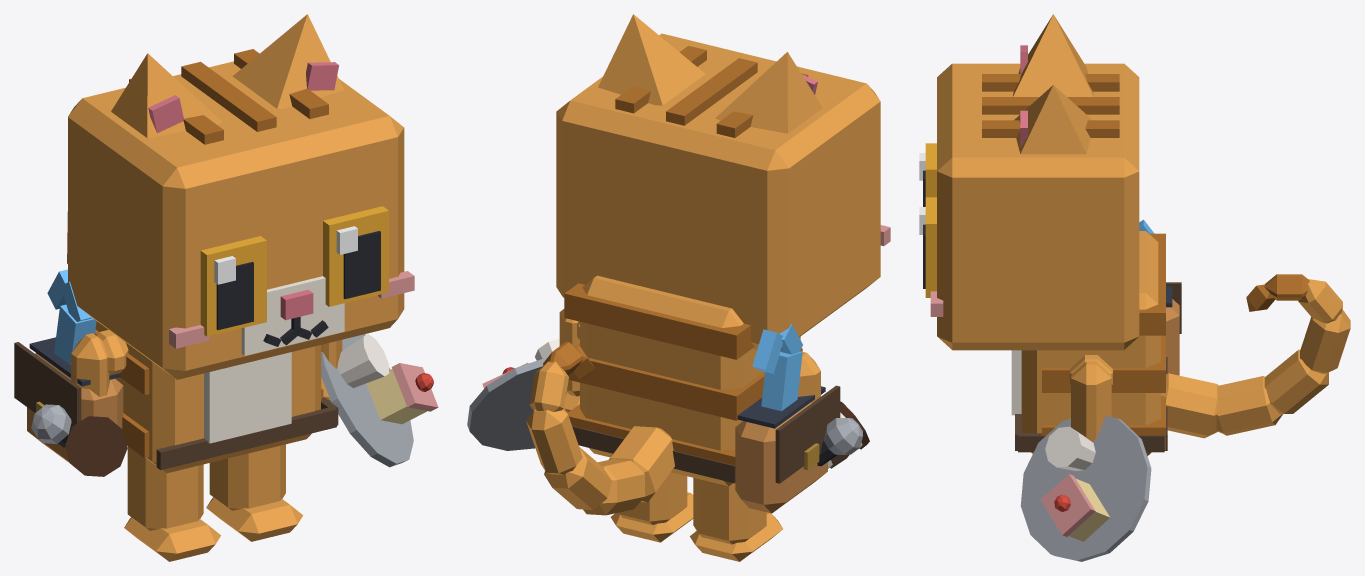
The model's file is CatCafe_Cat_Tabby_Work.glb.
3 views of the same model, side by side, from view 1: azimuth 30°, elevation 25°; view 2: azimuth 150°, elevation 25°; view 3: azimuth 270°, elevation 25° (orthographic). The views are drawn at different scales.
Parts seen in each view (by area): view 1: CatCafe_Cat_Tabby_Work_Head, CatCafe_Cat_Tabby_Work_Body, CatCafe_Cat_Tabby_Work_Held_Waiter, CatCafe_Cat_Tabby_Work_LegB2, CatCafe_Cat_Tabby_Work_LegB1, CatCafe_Cat_Tabby_Work_Eye2, CatCafe_Cat_Tabby_Work_Eye1, CatCafe_Cat_Tabby_Work_EarL, CatCafe_Cat_Tabby_Work_EarR, CatCafe_Cat_Tabby_Work_Held_Barista, CatCafe_Cat_Tabby_Work_LegF2, CatCafe_Cat_Tabby_Work_Held_Entertainer; view 2: CatCafe_Cat_Tabby_Work_Head, CatCafe_Cat_Tabby_Work_Body, CatCafe_Cat_Tabby_Work_Tail, CatCafe_Cat_Tabby_Work_EarL, CatCafe_Cat_Tabby_Work_LegB2, CatCafe_Cat_Tabby_Work_Held_Waiter, CatCafe_Cat_Tabby_Work_EarR, CatCafe_Cat_Tabby_Work_LegB1, CatCafe_Cat_Tabby_Work_Held_Entertainer, CatCafe_Cat_Tabby_Work_LegF1, CatCafe_Cat_Tabby_Work_LegF2; view 3: CatCafe_Cat_Tabby_Work_Head, CatCafe_Cat_Tabby_Work_Body, CatCafe_Cat_Tabby_Work_Held_Waiter, CatCafe_Cat_Tabby_Work_Tail, CatCafe_Cat_Tabby_Work_EarR, CatCafe_Cat_Tabby_Work_EarL, CatCafe_Cat_Tabby_Work_LegF1, CatCafe_Cat_Tabby_Work_Eye1, CatCafe_Cat_Tabby_Work_Eye2.
Part boxes in pixels (x1,y1,x2,y2): CatCafe_Cat_Tabby_Work_Head: (68, 49, 414, 379); CatCafe_Cat_Tabby_Work_Body: (14, 269, 338, 473); CatCafe_Cat_Tabby_Work_Held_Waiter: (321, 334, 438, 467); CatCafe_Cat_Tabby_Work_LegB2: (124, 446, 220, 561); CatCafe_Cat_Tabby_Work_LegB1: (206, 444, 302, 541); CatCafe_Cat_Tabby_Work_Eye2: (200, 236, 266, 336); CatCafe_Cat_Tabby_Work_Eye1: (323, 206, 388, 306); CatCafe_Cat_Tabby_Work_EarL: (232, 14, 343, 108); CatCafe_Cat_Tabby_Work_EarR: (111, 53, 222, 138); CatCafe_Cat_Tabby_Work_Held_Barista: (65, 416, 127, 476); CatCafe_Cat_Tabby_Work_LegF2: (71, 333, 110, 396); CatCafe_Cat_Tabby_Work_Held_Entertainer: (31, 404, 71, 447); CatCafe_Cat_Tabby_Work_Head: (556, 33, 890, 350); CatCafe_Cat_Tabby_Work_Body: (564, 275, 840, 513); CatCafe_Cat_Tabby_Work_Tail: (526, 342, 674, 515); CatCafe_Cat_Tabby_Work_EarL: (598, 14, 705, 105); CatCafe_Cat_Tabby_Work_LegB2: (690, 478, 782, 561); CatCafe_Cat_Tabby_Work_Held_Waiter: (467, 338, 559, 450); CatCafe_Cat_Tabby_Work_EarR: (715, 52, 822, 133); CatCafe_Cat_Tabby_Work_LegB1: (610, 472, 693, 542); CatCafe_Cat_Tabby_Work_Held_Entertainer: (817, 418, 862, 466); CatCafe_Cat_Tabby_Work_LegF1: (559, 309, 579, 412); CatCafe_Cat_Tabby_Work_LegF2: (798, 351, 820, 402); CatCafe_Cat_Tabby_Work_Head: (930, 63, 1139, 350); CatCafe_Cat_Tabby_Work_Body: (1011, 219, 1181, 455); CatCafe_Cat_Tabby_Work_Held_Waiter: (1020, 416, 1151, 561); CatCafe_Cat_Tabby_Work_Tail: (1161, 274, 1350, 438); CatCafe_Cat_Tabby_Work_EarR: (1013, 14, 1093, 96); CatCafe_Cat_Tabby_Work_EarL: (1014, 85, 1092, 154); CatCafe_Cat_Tabby_Work_LegF1: (1071, 361, 1111, 441); CatCafe_Cat_Tabby_Work_Eye1: (919, 197, 936, 297); CatCafe_Cat_Tabby_Work_Eye2: (919, 143, 936, 206).
Bounding box in the file's own units: 1.53 × 1.93 × 1.62.
Materials: 1 (1 with a texture image).
